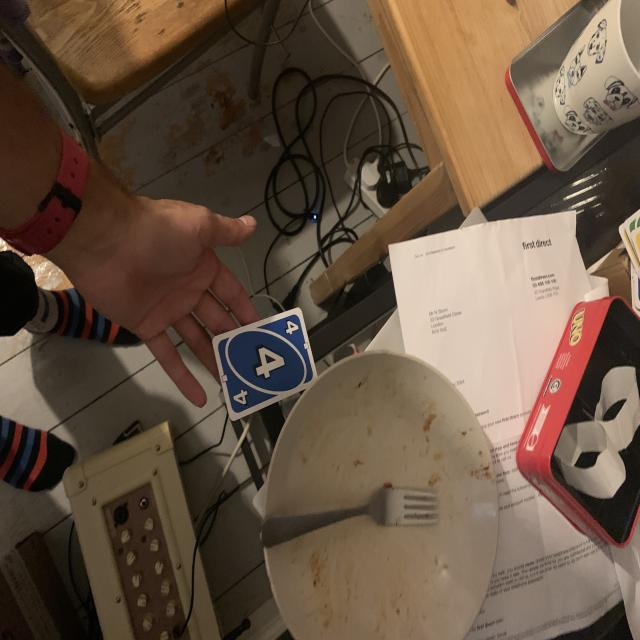lblue-4: (281, 315, 301, 339)
